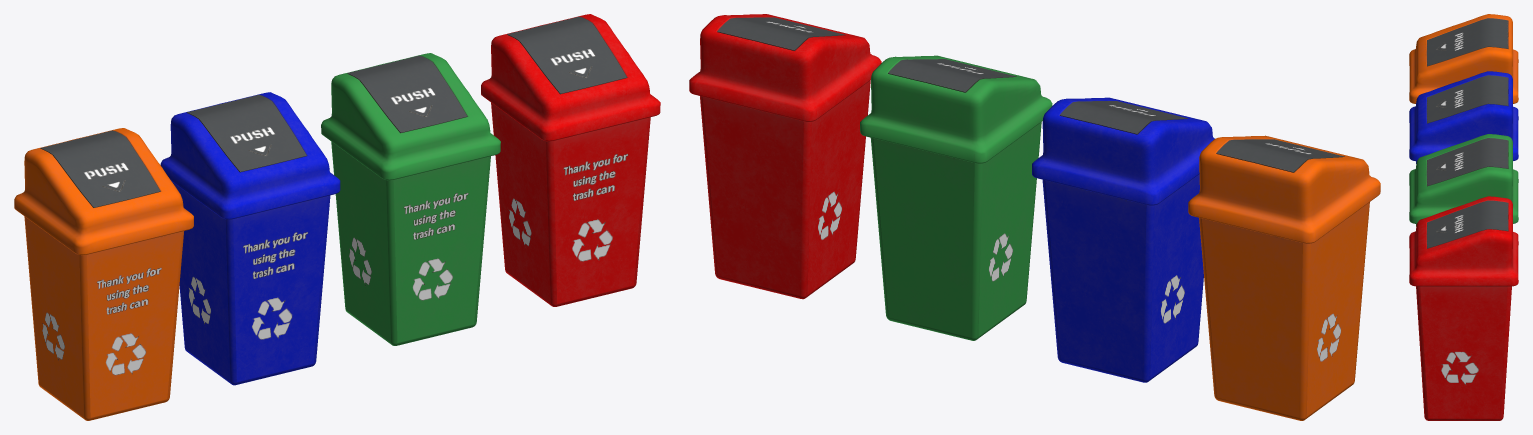
File: sceen_5_bagian_1_recycle_1.glb
3 renders of one model, left to right at view 1: azimuth 30°, elevation 25°; view 2: azimuth 150°, elevation 25°; view 3: azimuth 270°, elevation 25°, orthographic. The views are drawn at different scales.
Parts seen in each view (by area): view 1: base_4, base_2, base, base_3, door_4, door_2, door, door_3; view 2: base_4, base_2, base, base_3, door_4, door_2, door, door_3; view 3: base, door, door_3, door_2, door_4.
Boxes of the visible parts, x1,y1,x2,y2 form: base_4: (24, 216, 183, 420); base_2: (331, 141, 490, 345); base: (491, 102, 650, 306); base_3: (171, 181, 330, 385); door_4: (14, 128, 193, 255); door_2: (321, 53, 500, 180); door: (481, 14, 660, 141); door_3: (160, 92, 340, 219); base_4: (1199, 202, 1369, 420); base_2: (870, 122, 1041, 340); base: (700, 80, 870, 299); base_3: (1042, 174, 1203, 382); door_4: (1188, 135, 1380, 243); door_2: (860, 55, 1052, 163); door: (689, 14, 881, 121); door_3: (1032, 97, 1214, 205); base: (1416, 286, 1511, 420); door: (1409, 196, 1518, 286); door_3: (1409, 71, 1518, 161); door_2: (1409, 134, 1518, 223); door_4: (1409, 14, 1518, 103).
Size of the model in its own units: 6.85 by 2.67 by 1.38.
4 materials, 4 textured.
